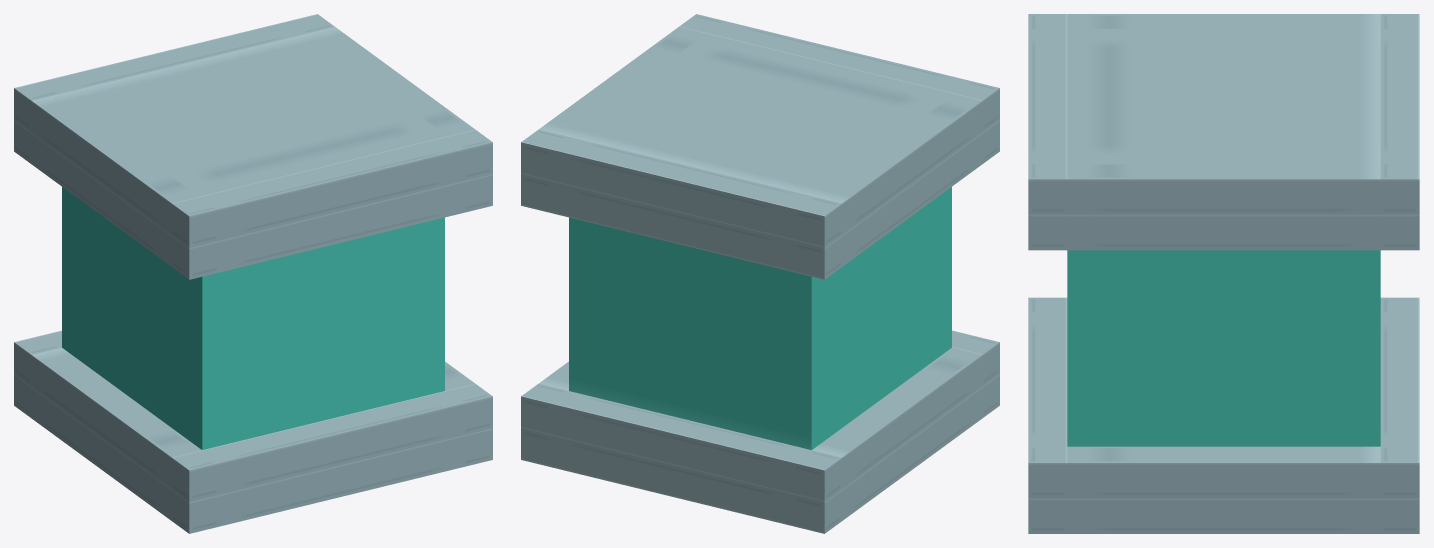
The model's file is sc_pickup.obj.
3 views of the same model, side by side, from view 1: azimuth 30°, elevation 25°; view 2: azimuth 150°, elevation 25°; view 3: azimuth 270°, elevation 25° (orthographic). The views are drawn at different scales.
Size of the model in its own units: 6.25 by 6.25 by 6.25.
Materials: 1 (1 with a texture image).
